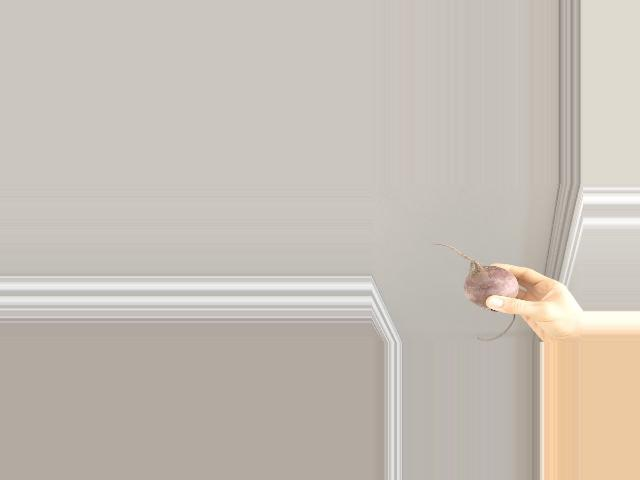beet: (429, 244, 517, 341)
